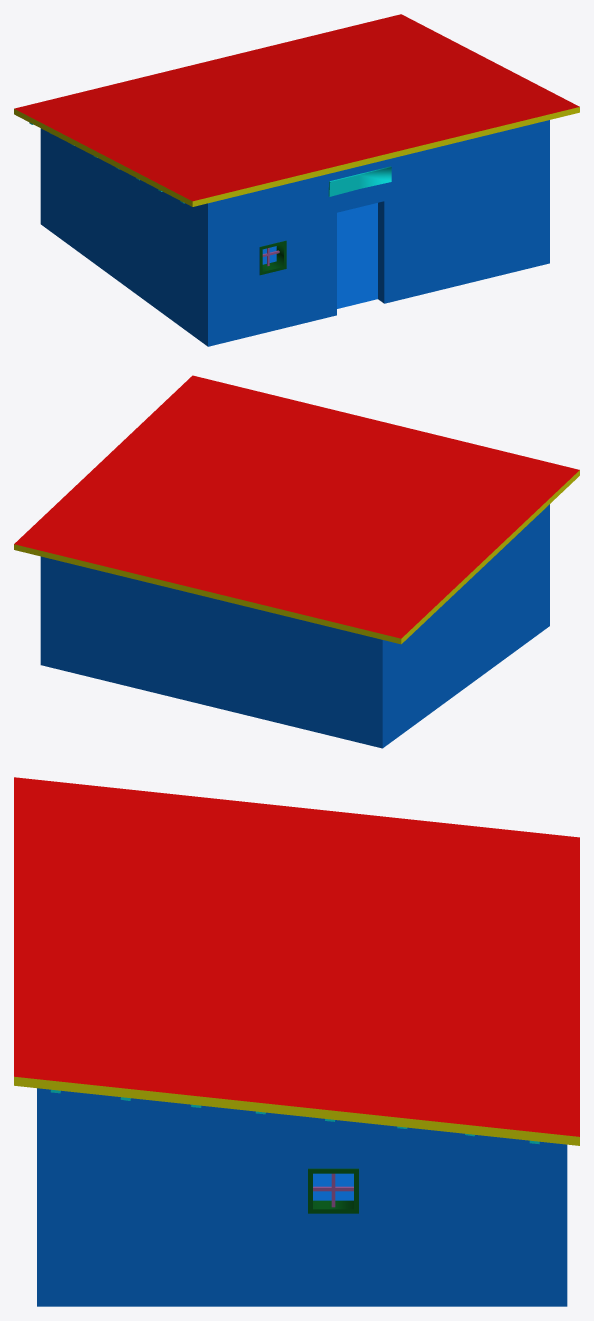
The model's file is Lighthouse_Building_Schuppen2.fbx.
3 views of the same model, one above another, from view 1: azimuth 30°, elevation 25°; view 2: azimuth 150°, elevation 25°; view 3: azimuth 270°, elevation 25° (orthographic). The views are drawn at different scales.
Visible parts, largest first — view 1: Building; view 2: Building; view 3: Building.
Part boxes in pixels (x1,y1,x2,y2): Building: (14,14,579,346); Building: (14,375,579,748); Building: (14,777,579,1306).
Size of the model in its own units: 8.7 by 3.35 by 6.95.
